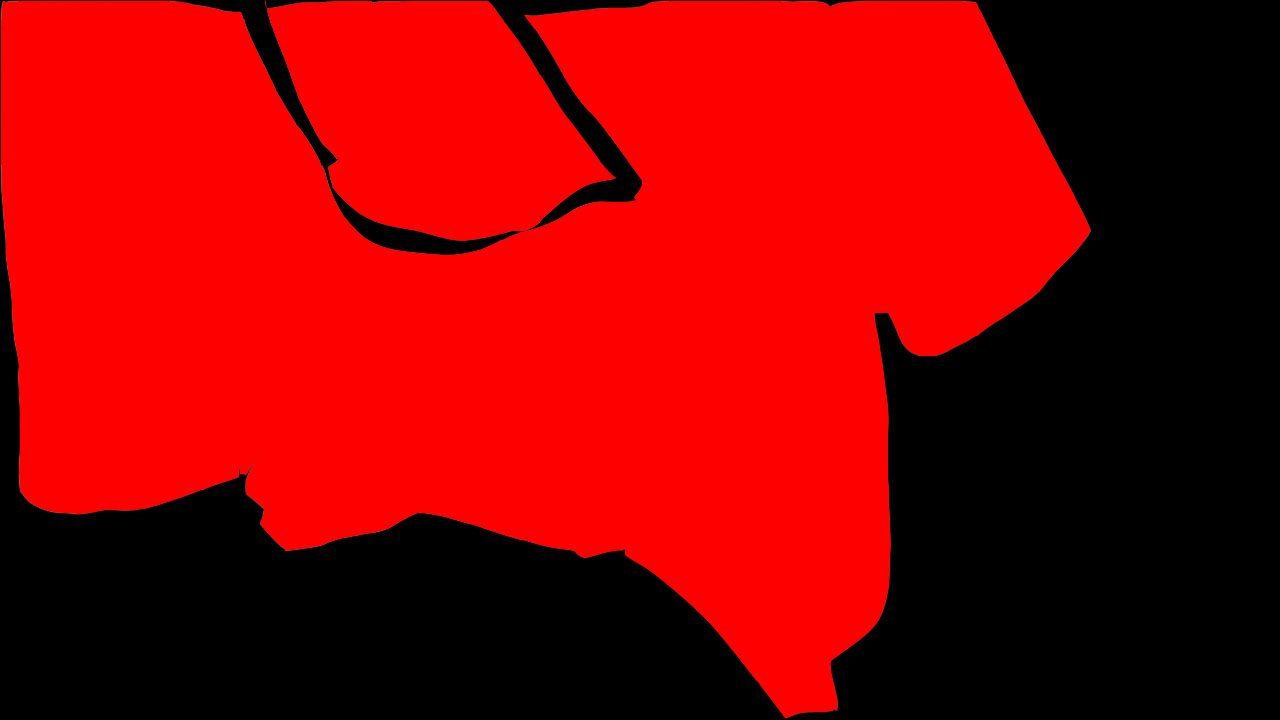uniforme_ifmt: (1, 3, 1091, 720)
